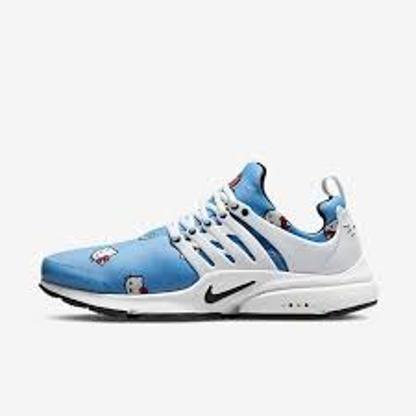not trash: (37, 159, 380, 318)
